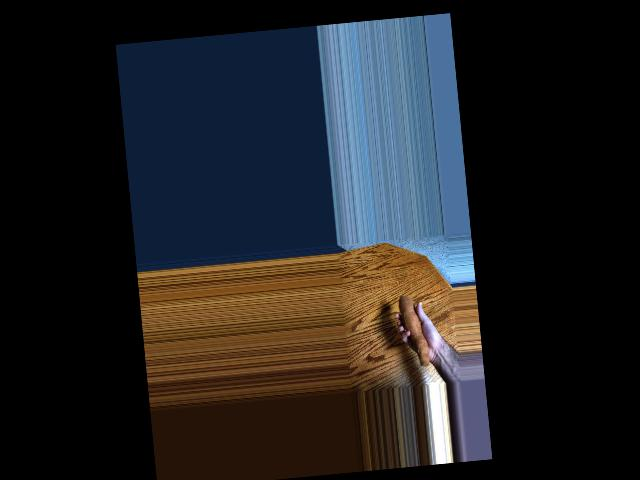sweet_potato: (397, 291, 431, 366)
